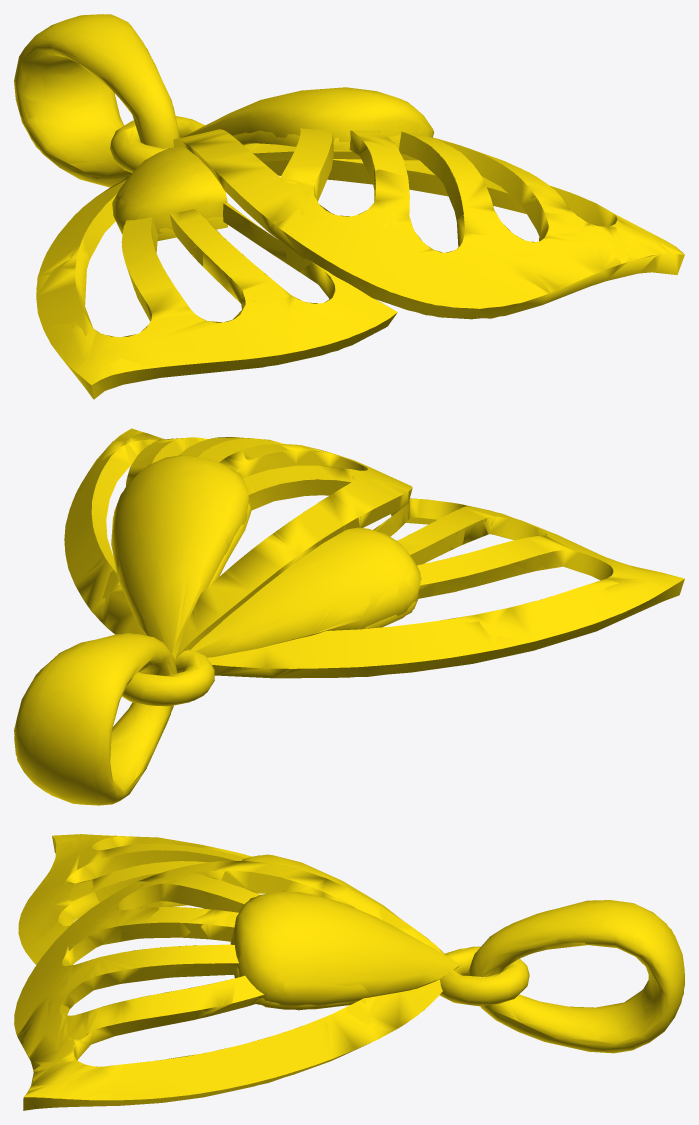
3 views of the same model, one above another, from view 1: azimuth 30°, elevation 25°; view 2: azimuth 150°, elevation 25°; view 3: azimuth 270°, elevation 25° (orthographic). The views are drawn at different scales.
Parts seen in each view (by area): view 1: highPolyMesh, lowPolyMesh; view 2: highPolyMesh, lowPolyMesh; view 3: highPolyMesh, lowPolyMesh.
Part boxes in pixels (x1,y1,x2,y2): highPolyMesh: [15, 14, 684, 399]; lowPolyMesh: [14, 14, 684, 398]; highPolyMesh: [14, 429, 684, 805]; lowPolyMesh: [14, 428, 684, 805]; highPolyMesh: [14, 834, 684, 1110]; lowPolyMesh: [14, 834, 683, 1108].
Size of the model in its own units: 0.0173 by 0.00542 by 0.0187.
